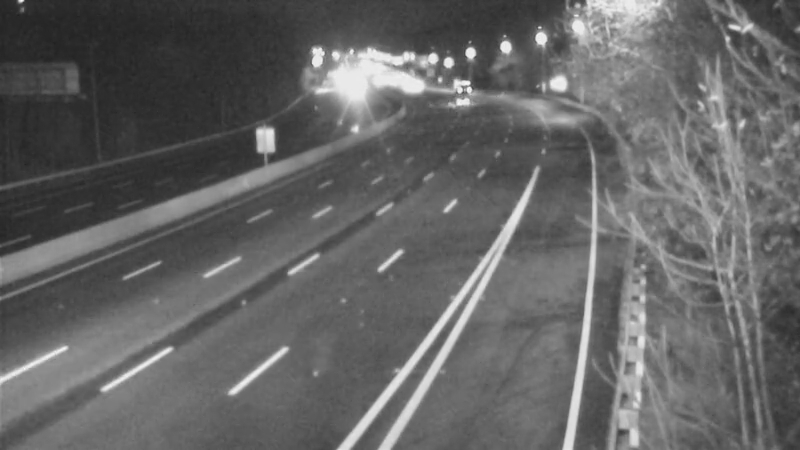vehicle: (438, 58, 488, 108), (431, 79, 481, 129)
